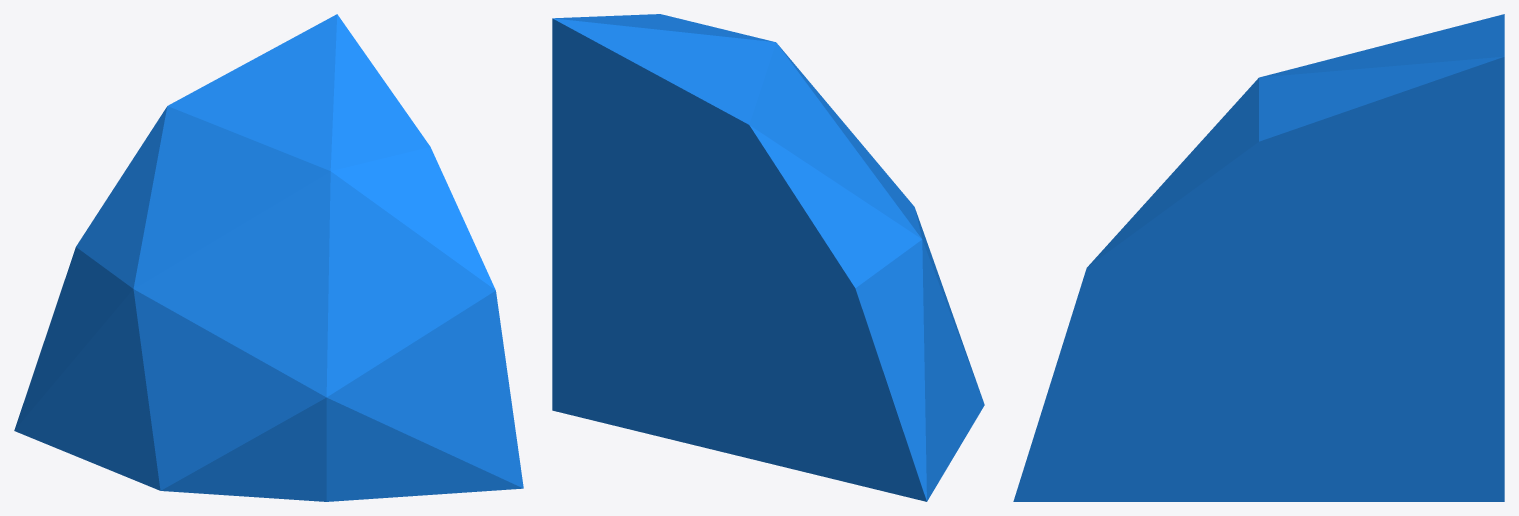
The model's file is Proto_Block_Quarter_Sphere_Hedron_02.fbx.
The picture shows the model from 3 angles, left to right: view 1: azimuth 30°, elevation 25°; view 2: azimuth 150°, elevation 25°; view 3: azimuth 270°, elevation 25°; orthographic projection. The views are drawn at different scales.
Parts seen in each view (by area): view 1: Proto_Block_Quarter_Sphere_Hedron_02; view 2: Proto_Block_Quarter_Sphere_Hedron_02; view 3: Proto_Block_Quarter_Sphere_Hedron_02.
Part boxes in pixels (left/top/right/bottom): Proto_Block_Quarter_Sphere_Hedron_02: left=14, top=14, right=523, bottom=501; Proto_Block_Quarter_Sphere_Hedron_02: left=552, top=14, right=984, bottom=501; Proto_Block_Quarter_Sphere_Hedron_02: left=1013, top=14, right=1504, bottom=501.
Bounding box in the file's own units: 0.5 × 0.5 × 0.5.
